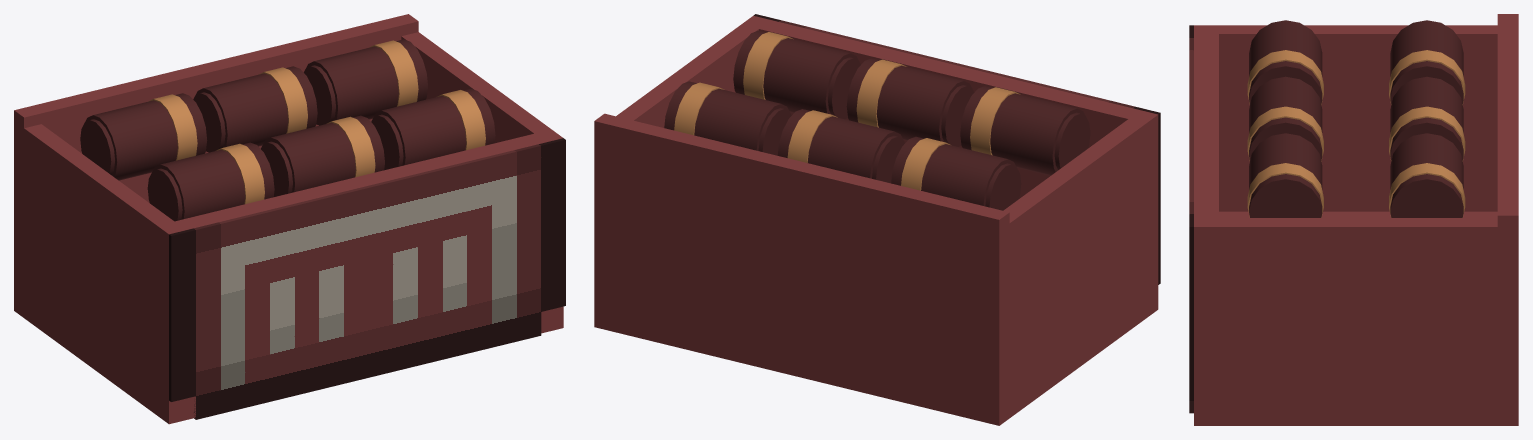
The model's file is CMU3DRMCBoxShotgunBuckshot.glb.
The picture shows the model from 3 angles, left to right: view 1: azimuth 30°, elevation 25°; view 2: azimuth 150°, elevation 25°; view 3: azimuth 270°, elevation 25°; orthographic projection. The views are drawn at different scales.
Visible parts, largest first — view 1: Front source artwork, carton side wall (×2), source horizontal shell hull (×6), rear carton wall, source brass band (×6), shell crimped end (×6), printed front wall, open carton bottom; view 2: rear carton wall, carton side wall (×2), source horizontal shell hull (×6), open carton bottom, source brass band (×6), shell crimped end (×6), printed front wall, Front source artwork; view 3: carton side wall (×2), source horizontal shell hull (×6), rear carton wall, open carton bottom, printed front wall, source brass band (×6), Front source artwork.
Boxes of the visible parts, x1=… form: Front source artwork: x1=169, y1=138, x2=565, y2=419; carton side wall (×2): x1=14, y1=32, x2=563, y2=405; source horizontal shell hull (×6): x1=85, y1=39, x2=495, y2=219; rear carton wall: x1=14, y1=14, x2=418, y2=298; source brass band (×6): x1=148, y1=40, x2=485, y2=204; shell crimped end (×6): x1=80, y1=65, x2=403, y2=221; printed front wall: x1=157, y1=129, x2=562, y2=406; open carton bottom: x1=14, y1=290, x2=563, y2=424; rear carton wall: x1=594, y1=113, x2=1009, y2=408; carton side wall (×2): x1=594, y1=15, x2=1158, y2=408; source horizontal shell hull (×6): x1=664, y1=30, x2=1085, y2=206; open carton bottom: x1=594, y1=289, x2=1158, y2=425; source brass band (×6): x1=674, y1=32, x2=1020, y2=190; shell crimped end (×6): x1=758, y1=57, x2=1090, y2=210; printed front wall: x1=743, y1=16, x2=1157, y2=198; Front source artwork: x1=753, y1=14, x2=1160, y2=284; carton side wall (×2): x1=1194, y1=25, x2=1518, y2=408; source horizontal shell hull (×6): x1=1249, y1=20, x2=1463, y2=217; rear carton wall: x1=1497, y1=14, x2=1518, y2=408; open carton bottom: x1=1194, y1=211, x2=1518, y2=425; printed front wall: x1=1194, y1=25, x2=1218, y2=408; source brass band (×6): x1=1247, y1=50, x2=1465, y2=217; Front source artwork: x1=1189, y1=25, x2=1193, y2=413.
Size of the model in its own units: 0.5 by 0.262 by 0.345.
4 materials, 1 textured.
